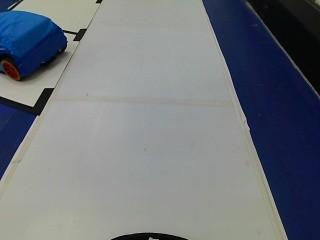car: (0, 4, 68, 82)
